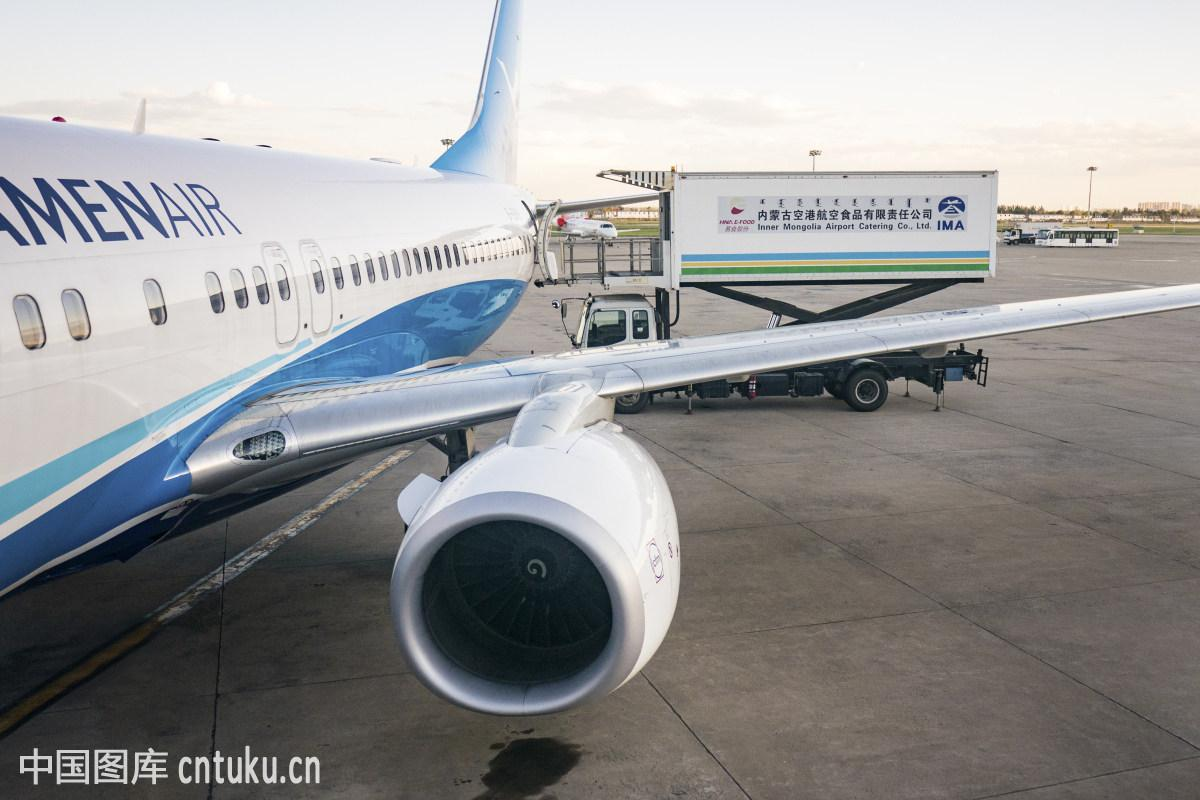airplane: (8, 1, 1200, 744)
